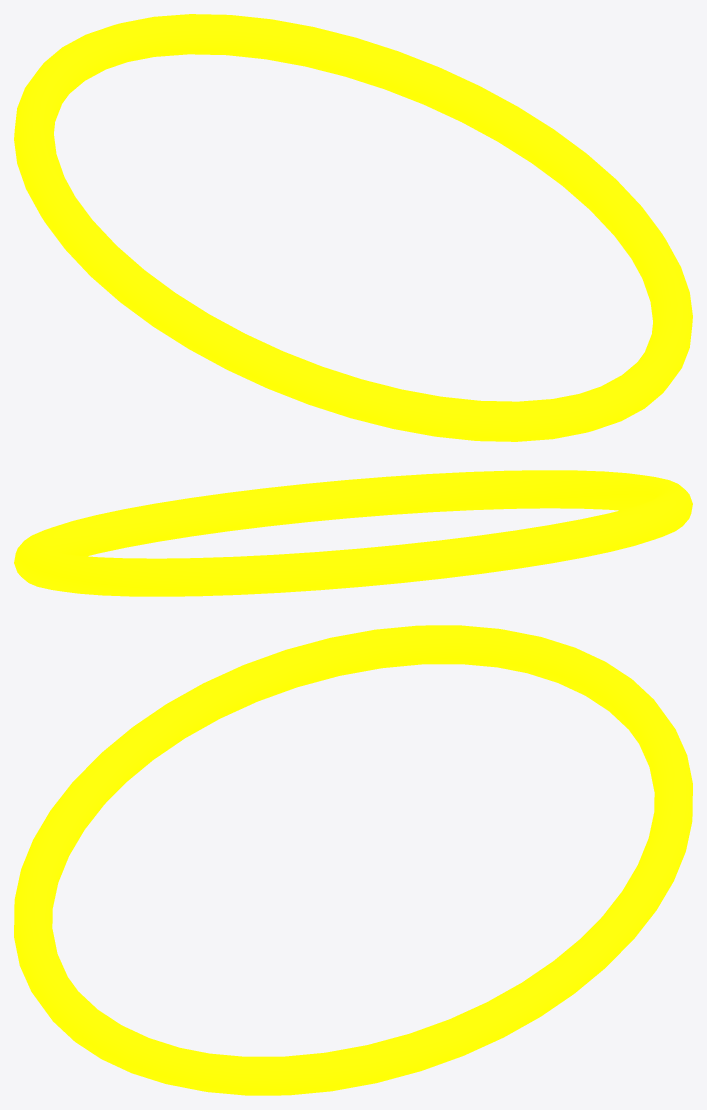
File: Halo.glb
The picture shows the model from 3 angles, top to bottom: view 1: azimuth 30°, elevation 25°; view 2: azimuth 150°, elevation 25°; view 3: azimuth 270°, elevation 25°; orthographic projection. The views are drawn at different scales.
Parts seen in each view (by area): view 1: Halo; view 2: Halo; view 3: Halo.
Boxes of the visible parts, box(x1,y1,x2,y2) form: Halo: box(14, 14, 692, 441); Halo: box(14, 470, 692, 596); Halo: box(14, 625, 692, 1095).
Size of the model in its own units: 0.8113 by 0.3075 by 0.8097.
